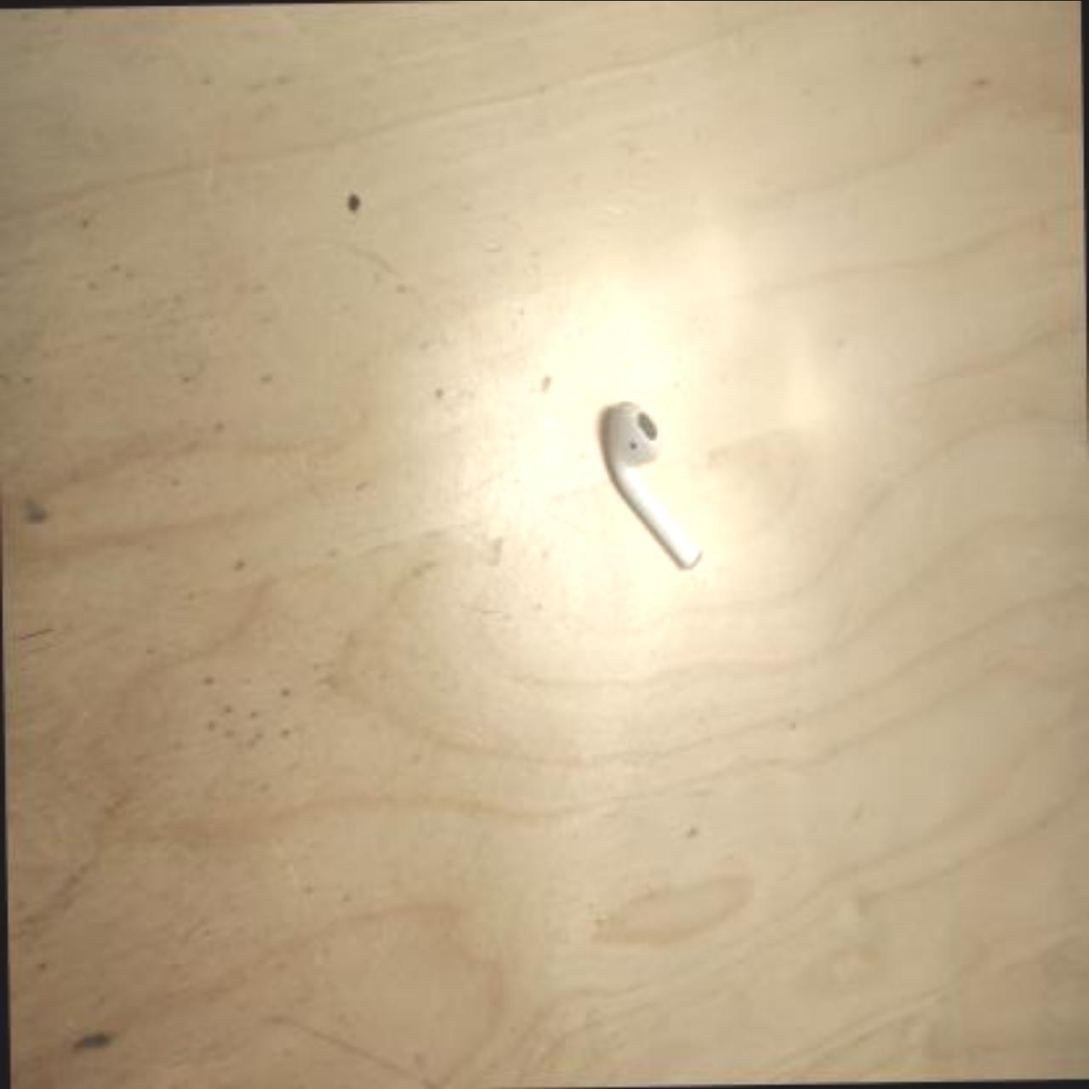Airpods_Units: (597, 403, 704, 581)
